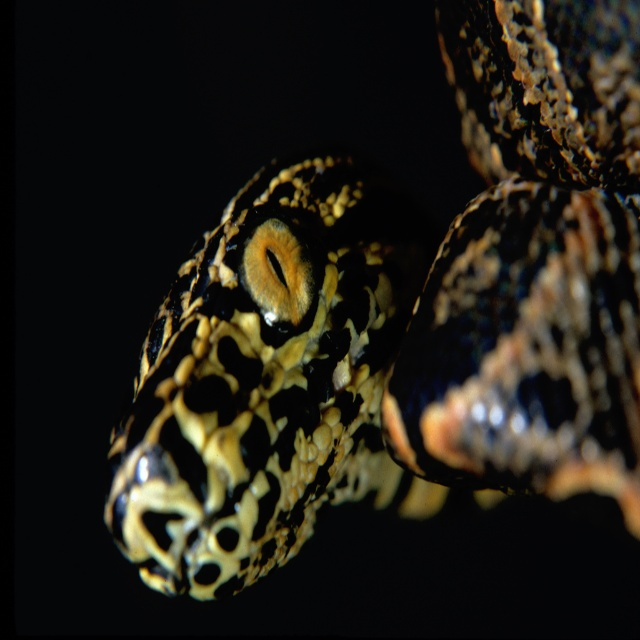Snake: (102, 0, 640, 605)
